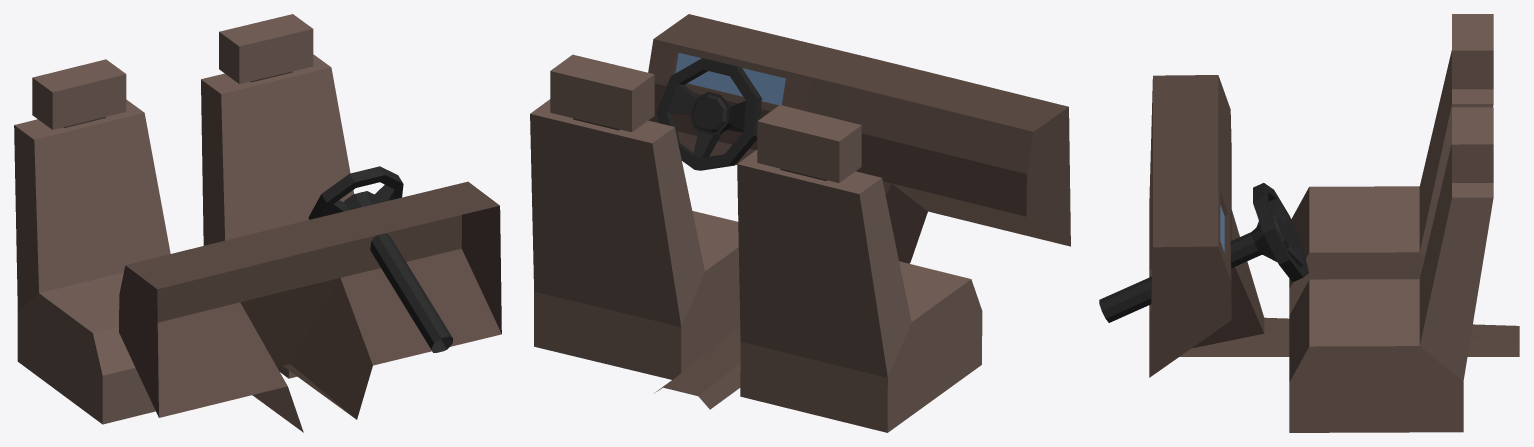
Rendered from interior.glb.
3 views of the same model, side by side, from view 1: azimuth 30°, elevation 25°; view 2: azimuth 150°, elevation 25°; view 3: azimuth 270°, elevation 25° (orthographic). The views are drawn at different scales.
Parts seen in each view (by area): view 1: interior; view 2: interior; view 3: interior.
Part boxes in pixels (x1=…): interior: x1=14, y1=14, x2=501, y2=432; interior: x1=530, y1=14, x2=1070, y2=432; interior: x1=1099, y1=14, x2=1519, y2=432.
Bounding box in the file's own units: 1.62 × 1.2 × 1.67.
1 material, 1 textured.
